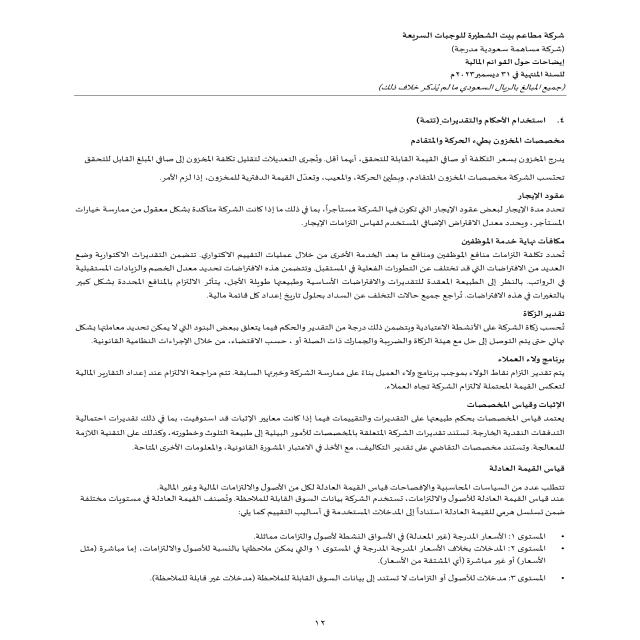notes: (458, 55, 568, 69)
text: (32, 108, 574, 598)
